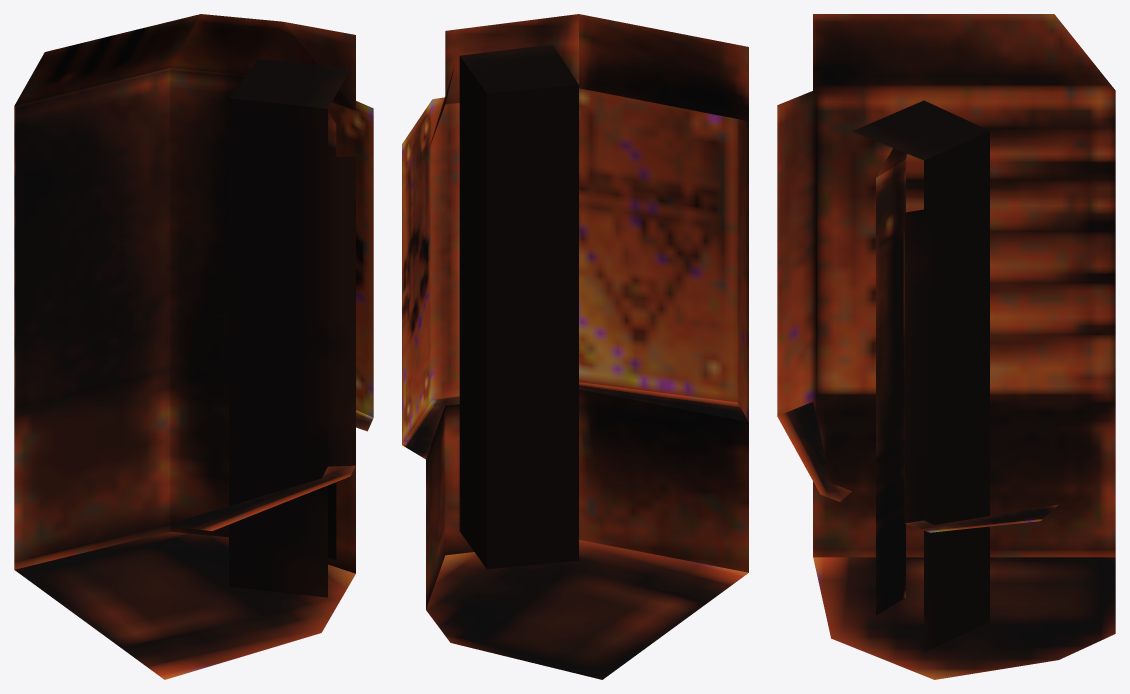
File: RocketPack.gltf
The picture shows the model from 3 angles, left to right: view 1: azimuth 30°, elevation 25°; view 2: azimuth 150°, elevation 25°; view 3: azimuth 270°, elevation 25°; orthographic projection. The views are drawn at different scales.
Visible parts, largest first — view 1: RocketPack; view 2: RocketPack; view 3: RocketPack.
Boxes of the visible parts, x1,y1,x2,y2 form: RocketPack: (14, 14, 373, 679); RocketPack: (402, 14, 748, 679); RocketPack: (777, 14, 1115, 679).
Bounding box in the file's own units: 0.1966 × 0.38 × 0.2147.
1 material, 1 textured.
